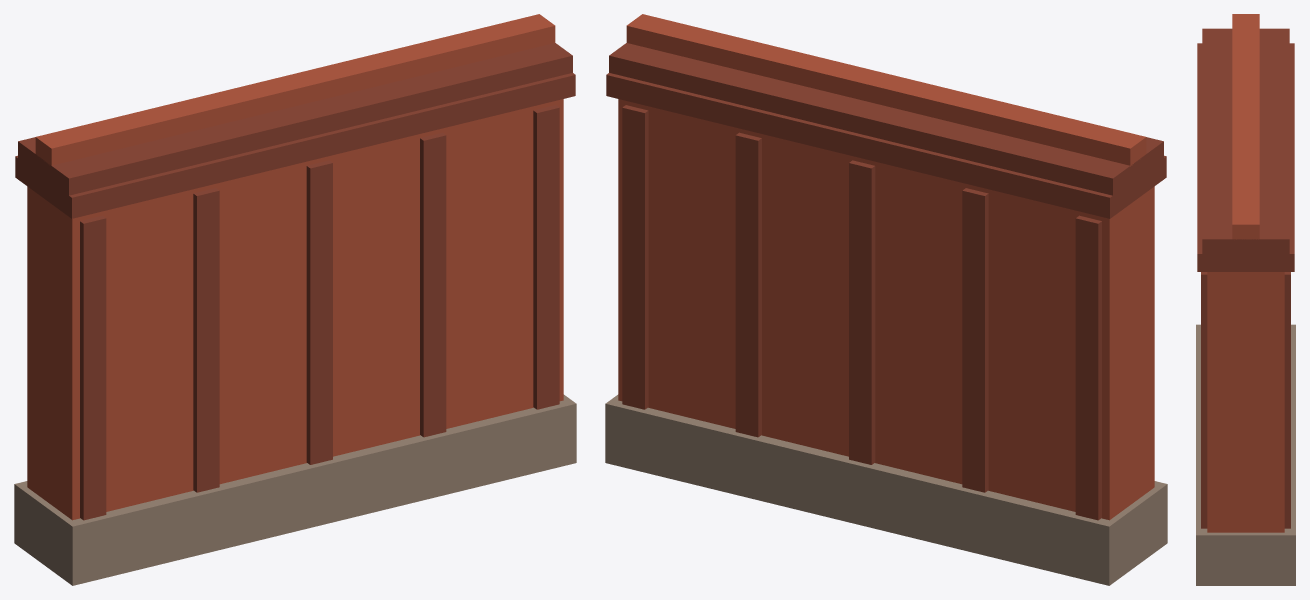
The model's file is brick_wall.glb.
The picture shows the model from 3 angles, left to right: view 1: azimuth 30°, elevation 25°; view 2: azimuth 150°, elevation 25°; view 3: azimuth 270°, elevation 25°; orthographic projection. The views are drawn at different scales.
Visible parts, largest first — view 1: wall_body, wall_base, wall_cap_mid, wall_cap_ridge, wall_cap_low, wall_pilaster_back_1, wall_pilaster_back_2, wall_pilaster_back_4, wall_pilaster_back_0, wall_pilaster_back_3; view 2: wall_body, wall_base, wall_cap_mid, wall_cap_ridge, wall_cap_low, wall_pilaster_1, wall_pilaster_2, wall_pilaster_4, wall_pilaster_0, wall_pilaster_3; view 3: wall_body, wall_cap_mid, wall_base, wall_cap_ridge, wall_cap_low, wall_pilaster_4, wall_pilaster_back_4.
Part boxes in pixels (bbox=[...]): wall_body: bbox=[27, 99, 563, 520]; wall_base: bbox=[14, 394, 576, 585]; wall_cap_mid: bbox=[18, 43, 572, 196]; wall_cap_ridge: bbox=[35, 14, 555, 165]; wall_cap_low: bbox=[15, 73, 575, 218]; wall_pilaster_back_1: bbox=[193, 188, 219, 492]; wall_pilaster_back_2: bbox=[306, 160, 332, 464]; wall_pilaster_back_4: bbox=[533, 105, 559, 409]; wall_pilaster_back_0: bbox=[80, 215, 106, 520]; wall_pilaster_back_3: bbox=[420, 132, 446, 437]; wall_body: bbox=[618, 99, 1154, 520]; wall_base: bbox=[605, 394, 1167, 585]; wall_cap_mid: bbox=[609, 43, 1163, 196]; wall_cap_ridge: bbox=[626, 14, 1146, 166]; wall_cap_low: bbox=[606, 73, 1166, 218]; wall_pilaster_1: bbox=[962, 188, 988, 492]; wall_pilaster_2: bbox=[849, 160, 875, 464]; wall_pilaster_4: bbox=[622, 105, 648, 409]; wall_pilaster_0: bbox=[1075, 215, 1101, 520]; wall_pilaster_3: bbox=[735, 132, 761, 437]; wall_body: bbox=[1207, 272, 1284, 532]; wall_cap_mid: bbox=[1202, 28, 1289, 254]; wall_base: bbox=[1196, 324, 1295, 585]; wall_cap_ridge: bbox=[1232, 14, 1259, 239]; wall_cap_low: bbox=[1197, 43, 1294, 271]; wall_pilaster_4: bbox=[1284, 272, 1290, 528]; wall_pilaster_back_4: bbox=[1201, 272, 1207, 528].
Bounding box in the file's own units: 4 × 3.2 × 0.8.
